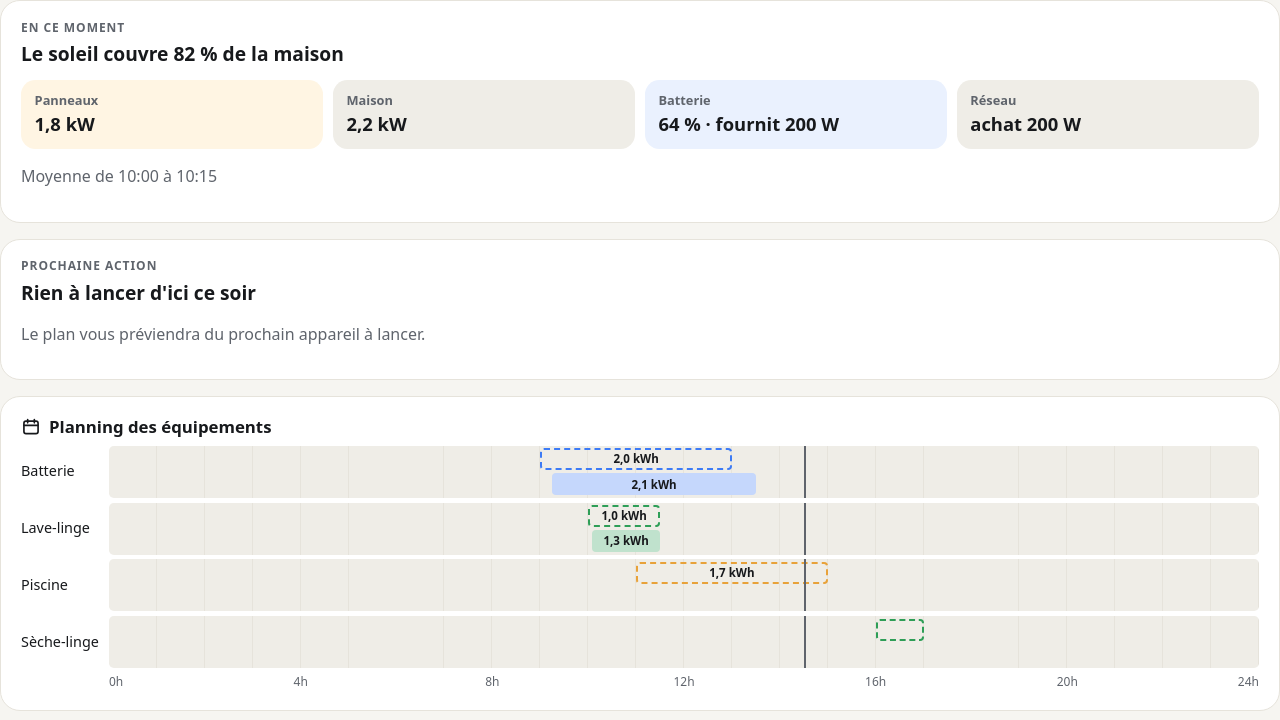
Scenario: TodayView › change le créneau d'un équipement pas encore lancé depuis la frise
Click the button named "Prévu 16h → 17h : Sèche-linge, 1,00 kWh": [900, 630] box [876,618,924,640]
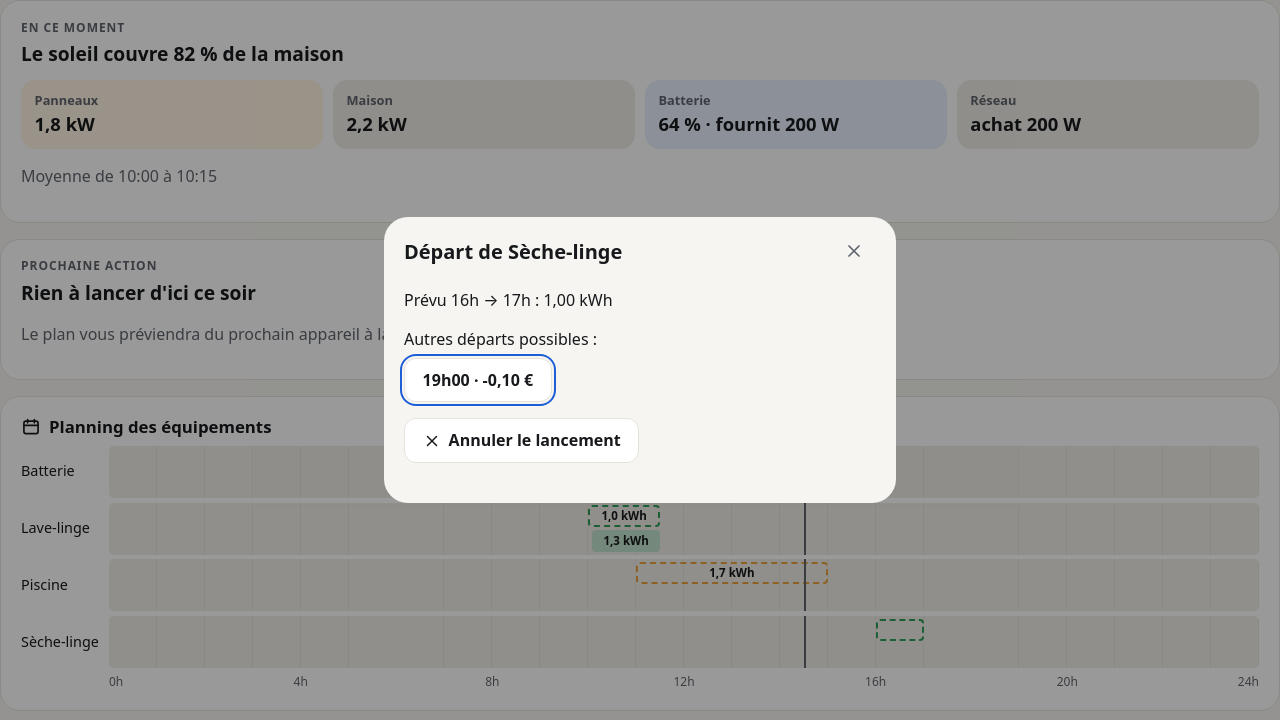
Expected: the heading "Départ de Sèche-linge" is shown, [404,237,622,266]
Click the button named "Choisir le départ de 19h00": [478, 380] box [404,358,552,402]
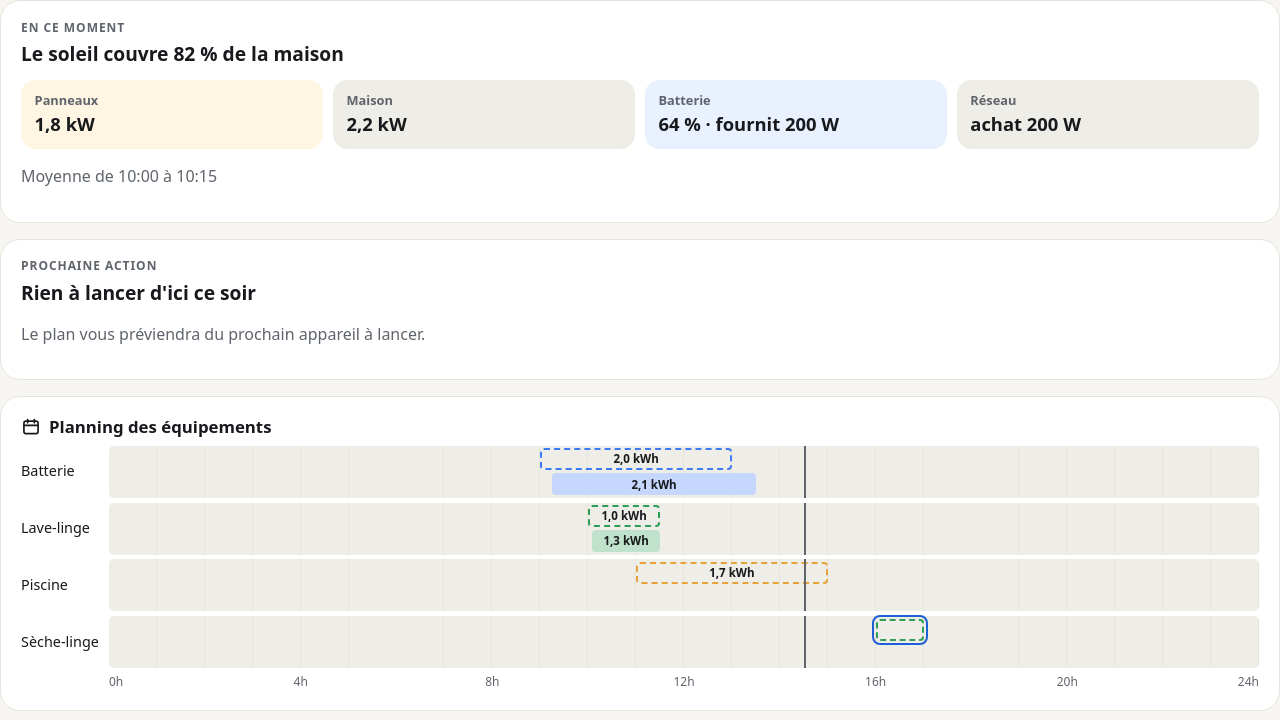
Expected: the dialog is gone
